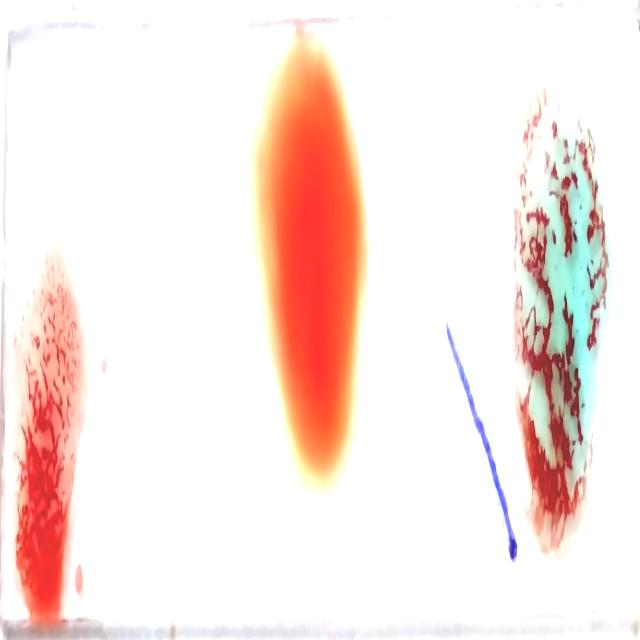A: (510, 75, 610, 555)
D: (8, 263, 90, 623)
